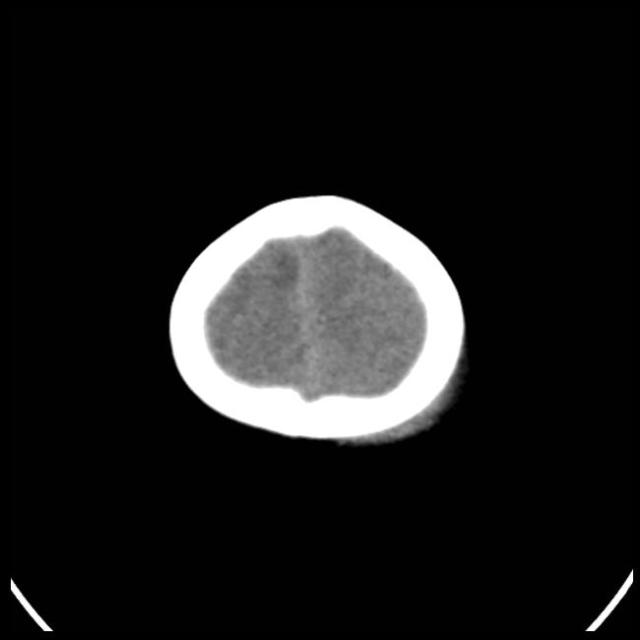lesion: (164, 189, 470, 448)
